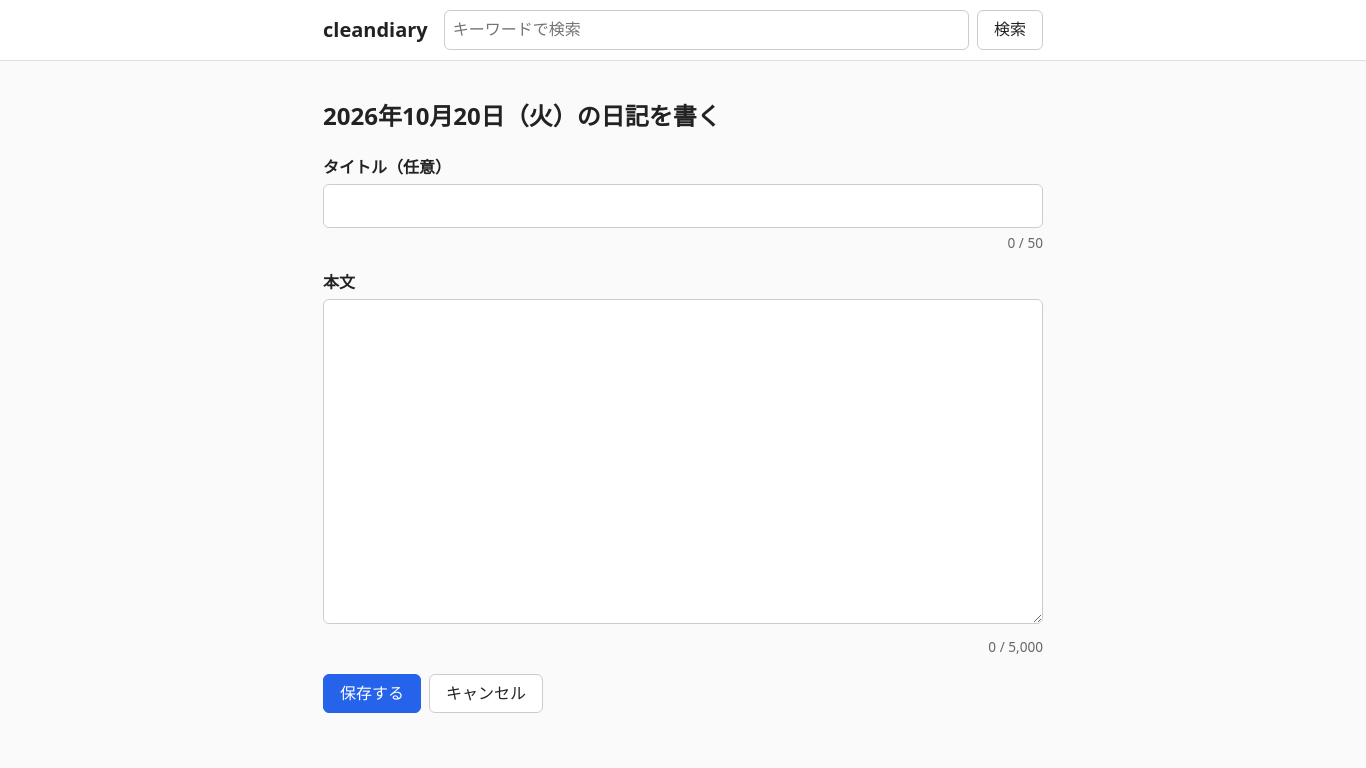
it: 日記編集画面 › 新しく書く › 本文が空なら保存せず、メッセージを出す
Type "タイトルだけ" into the field labelled "タイトル（任意）".
click(683, 206); type("タイトルだけ")  # box [323,184,1043,228]
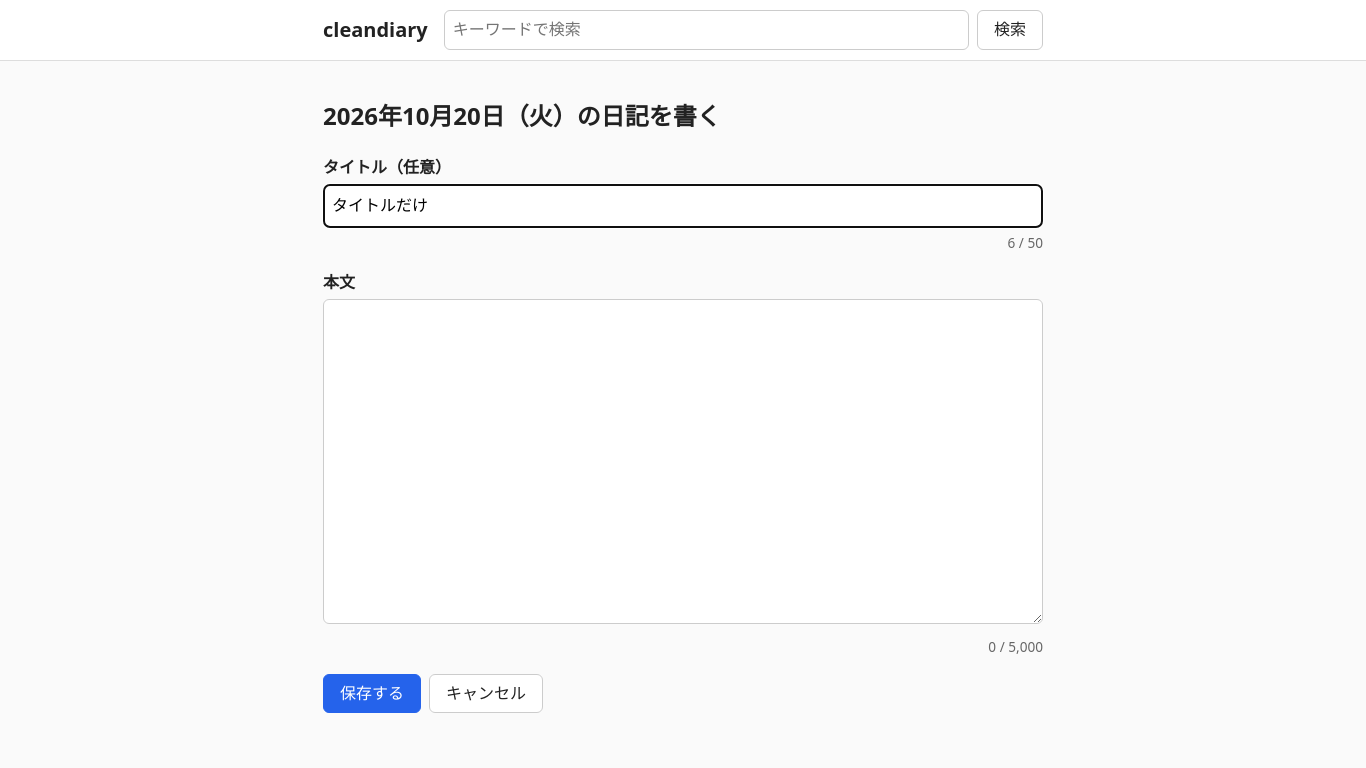
Click the button "保存する".
click(372, 694)  # box [323,674,421,713]
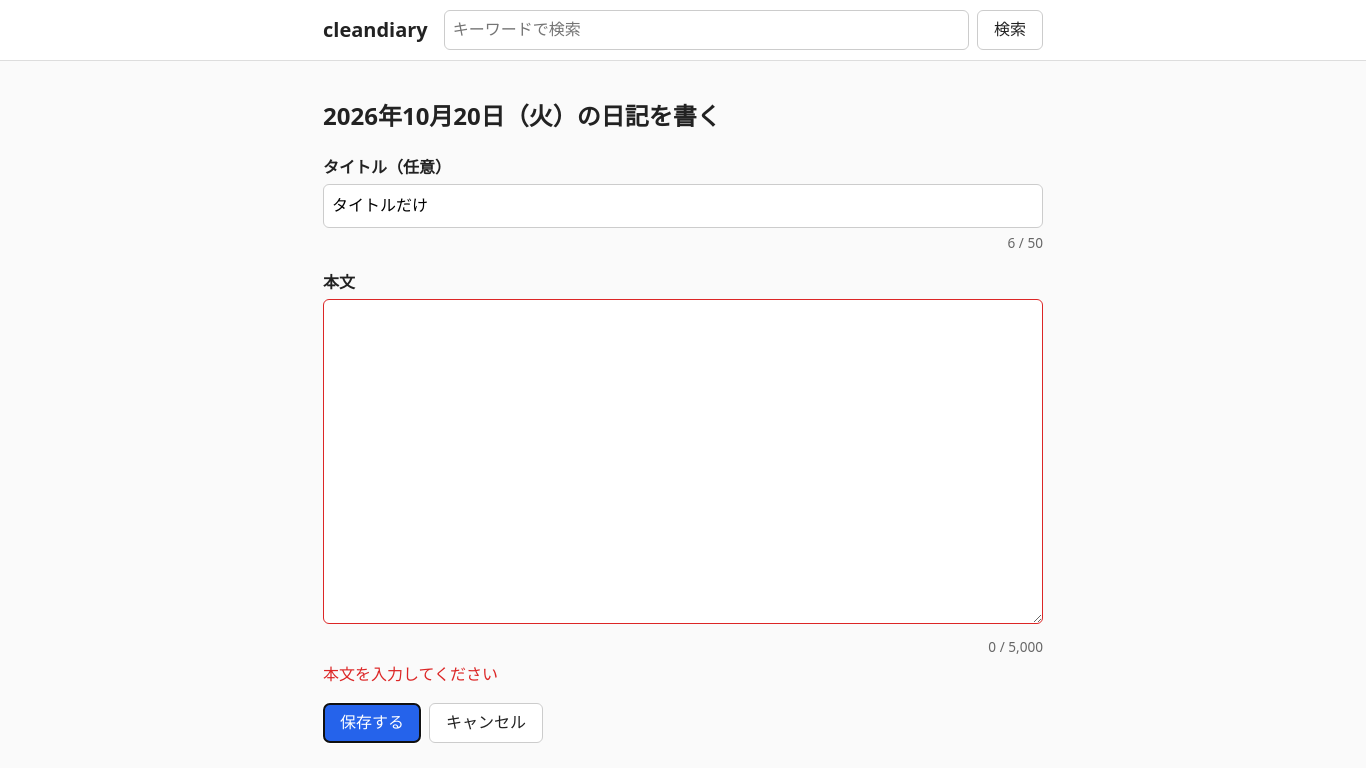
Expected: the message reads "本文を入力してください", [323,663,498,685]
